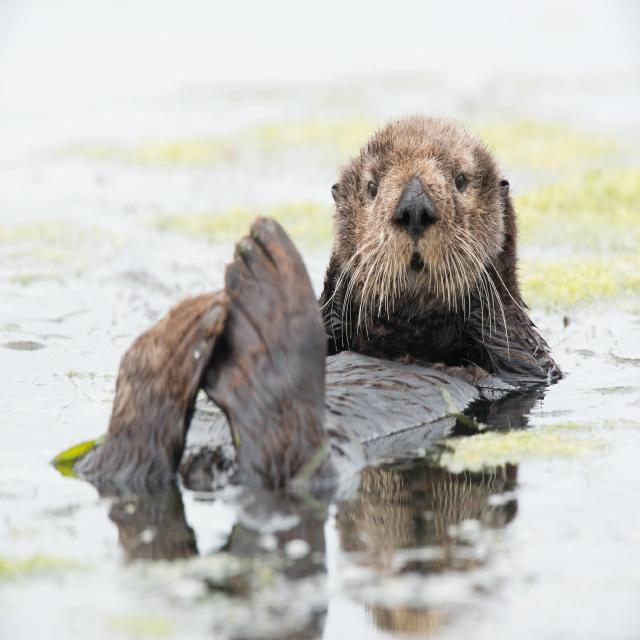Otter: (98, 104, 558, 501)
